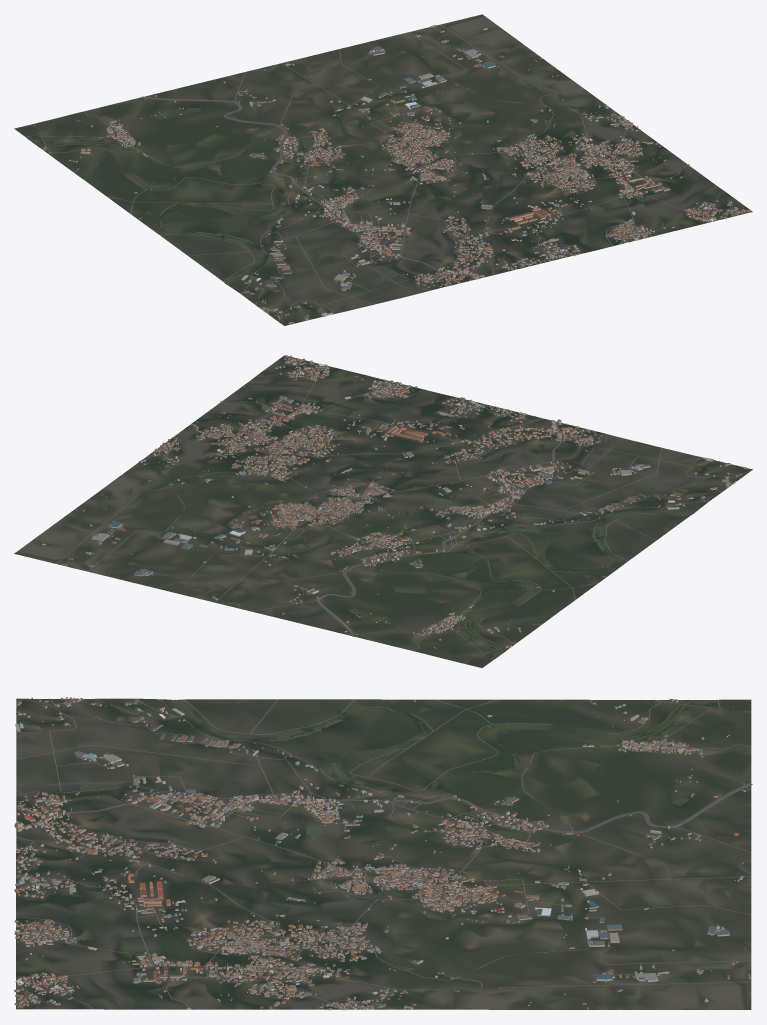
3 views of the same model, one above another, from view 1: azimuth 30°, elevation 25°; view 2: azimuth 150°, elevation 25°; view 3: azimuth 270°, elevation 25° (orthographic). The views are drawn at different scales.
Visible parts, largest first — view 1: ground, buildings, roads, water; view 2: ground, buildings, roads, water; view 3: ground, buildings, roads, water.
Part boxes in pixels (left/top/right/bottom): ground: left=14, top=14, right=752, bottom=325; buildings: left=32, top=25, right=750, bottom=324; roads: left=26, top=24, right=743, bottom=324; water: left=27, top=33, right=703, bottom=283; ground: left=14, top=355, right=752, bottom=667; buildings: left=41, top=355, right=747, bottom=660; roads: left=56, top=358, right=750, bottom=663; water: left=72, top=387, right=693, bottom=658; ground: left=16, top=698, right=751, bottom=1009; buildings: left=14, top=697, right=750, bottom=1010; roads: left=16, top=698, right=752, bottom=1009; water: left=123, top=699, right=724, bottom=1003.
Bounding box in the file's own units: 2813 × 22.88 × 2818.
